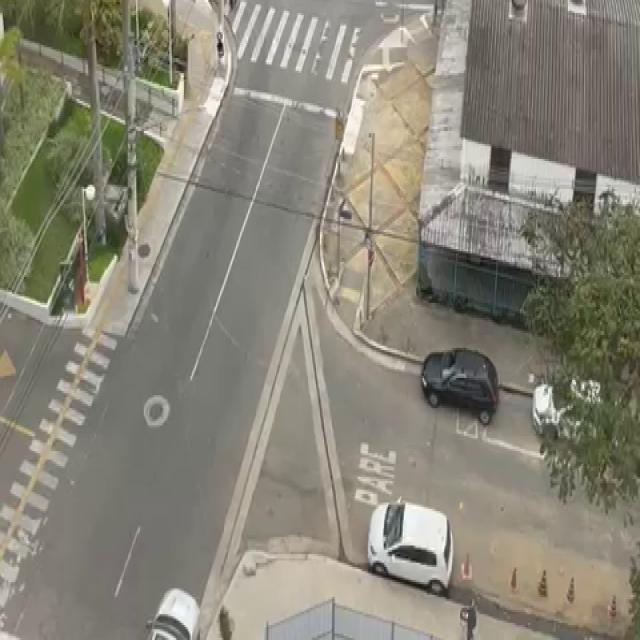car: (368, 492, 456, 596), (529, 366, 640, 448), (420, 339, 506, 425), (136, 580, 207, 640)
